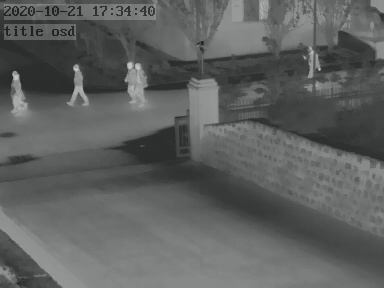person: (7, 67, 30, 118), (70, 61, 90, 105), (122, 61, 137, 104), (135, 62, 148, 103), (309, 46, 322, 80)
